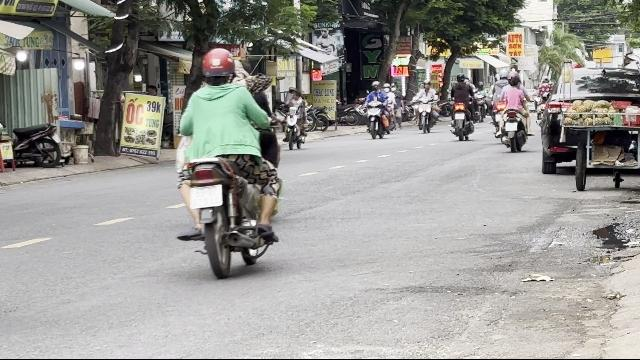helmet: (199, 48, 237, 86)
licenseplate: (190, 185, 222, 210)
motorcyclist: (171, 46, 285, 274)
